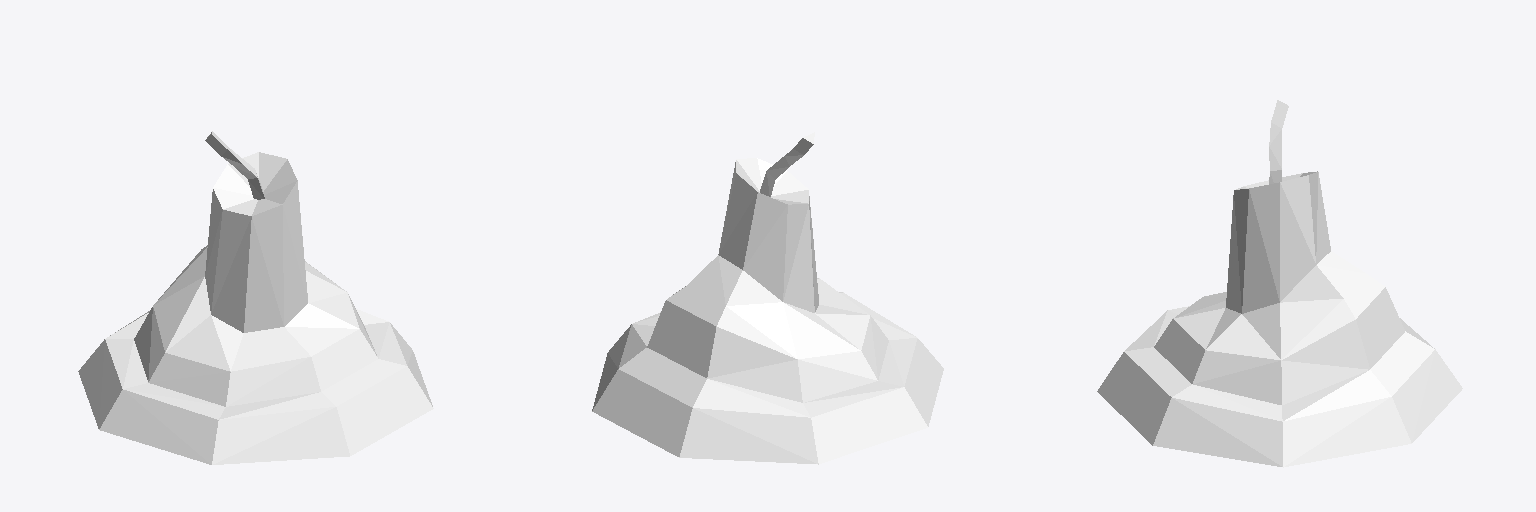
Rendered from CandleLowDetailTiny.obj.
The picture shows the model from 3 angles: view 1: azimuth 30°, elevation 25°; view 2: azimuth 150°, elevation 25°; view 3: azimuth 270°, elevation 25°; orthographic projection.
Visible parts, largest first — view 1: Mesh; view 2: Mesh; view 3: Mesh.
Boxes of the visible parts, box(x1,y1,x2,y2) form: Mesh: box(78, 131, 433, 464); Mesh: box(592, 132, 943, 464); Mesh: box(1097, 100, 1462, 467).
Size of the model in its own units: 0.0967 by 0.0781 by 0.0967.